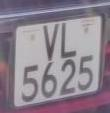2: (58, 55, 79, 101)
5: (19, 59, 43, 108), (77, 52, 96, 96)
6: (39, 61, 61, 102)
L: (59, 19, 81, 61)
V: (40, 20, 61, 65)
